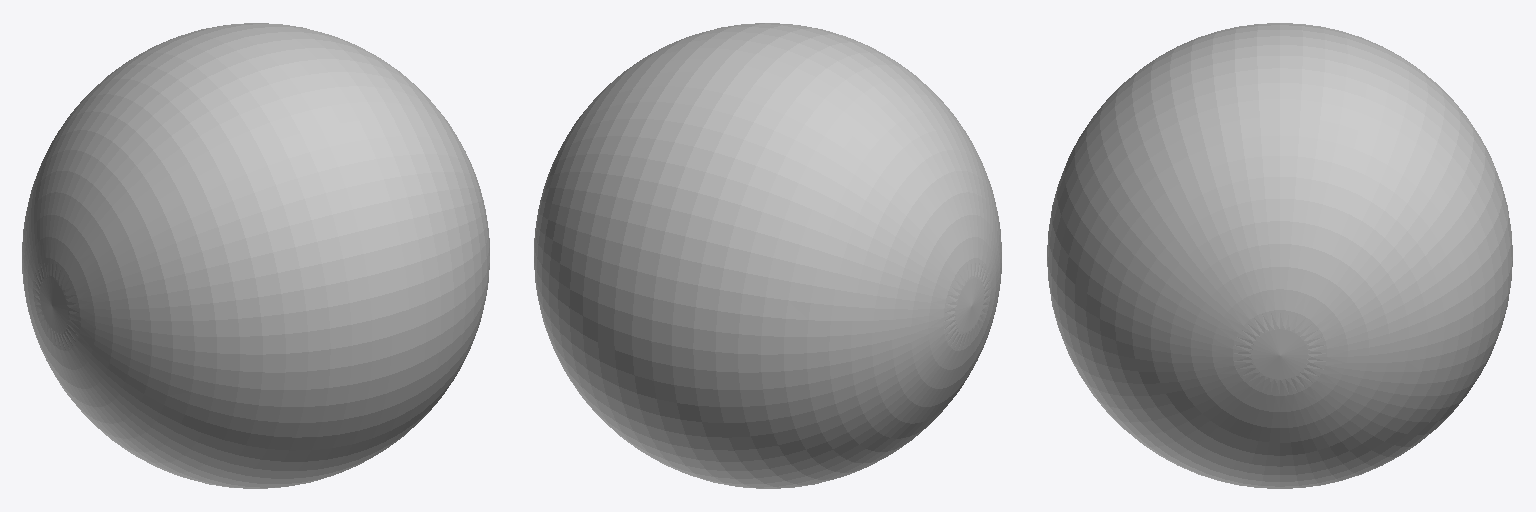
Rendered from FurnaceHD.obj.
3 renders of one model, left to right at view 1: azimuth 30°, elevation 25°; view 2: azimuth 150°, elevation 25°; view 3: azimuth 270°, elevation 25°, orthographic.
Visible parts, largest first — view 1: Sphere_Sphere.001; view 2: Sphere_Sphere.001; view 3: Sphere_Sphere.001.
Boxes of the visible parts, x1,y1,x2,y2 form: Sphere_Sphere.001: [22, 23, 489, 488]; Sphere_Sphere.001: [534, 23, 1001, 488]; Sphere_Sphere.001: [1047, 23, 1512, 488].
Bounding box in the file's own units: 1.29 × 1.28 × 1.28.